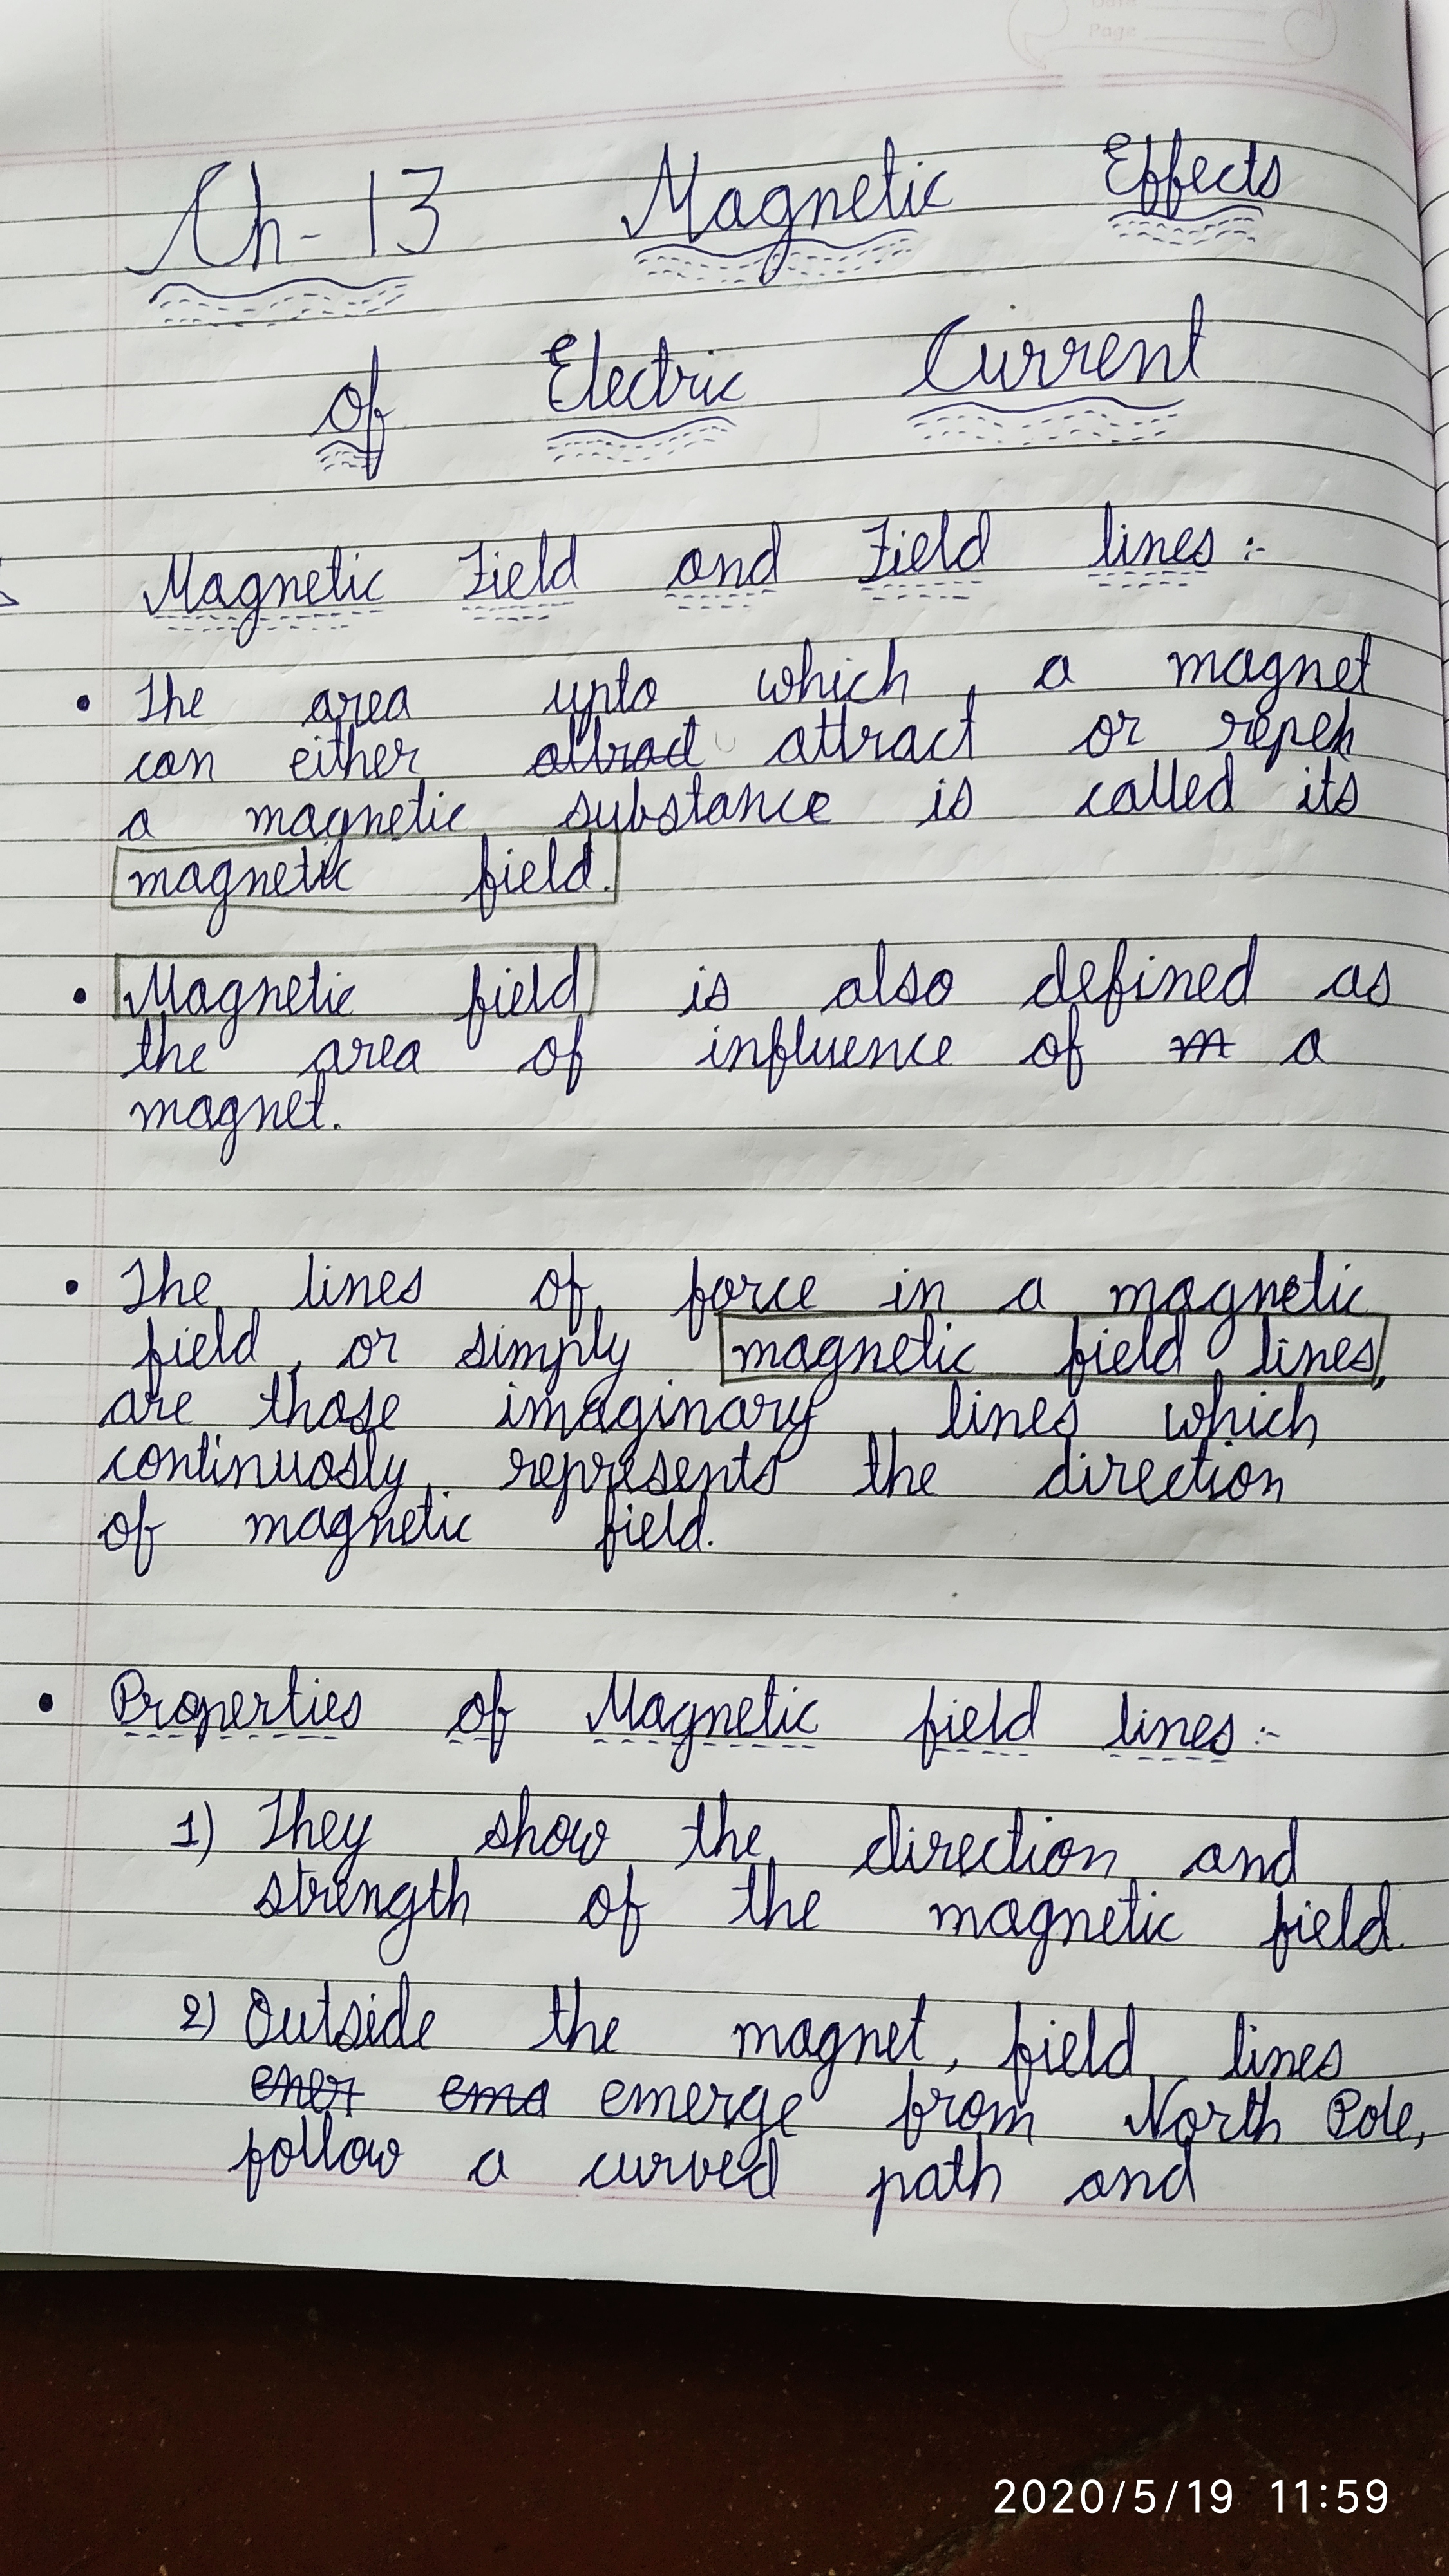C: (184, 159, 246, 267), (922, 313, 980, 393)
E: (543, 333, 584, 414), (1100, 131, 1136, 196)
F: (856, 517, 893, 586), (456, 540, 488, 598)
M: (639, 140, 702, 234), (596, 1672, 639, 1732), (159, 552, 196, 612), (138, 959, 179, 1014)
P: (110, 1668, 145, 1727)
T: (257, 1789, 287, 1851), (120, 1256, 149, 1315), (133, 672, 156, 724)
a: (708, 186, 745, 230), (1290, 1024, 1325, 1069), (773, 725, 810, 766), (984, 1897, 1021, 1937), (1219, 646, 1254, 686), (1039, 653, 1076, 690), (715, 1392, 750, 1431), (294, 1504, 329, 1543), (182, 1092, 216, 1132), (1162, 1276, 1196, 1316), (674, 547, 708, 586), (1329, 962, 1362, 1001), (310, 1037, 343, 1076), (1108, 777, 1141, 814), (1014, 1276, 1047, 1313), (886, 722, 918, 761), (287, 801, 318, 840), (780, 1332, 810, 1373), (110, 1387, 140, 1428), (639, 1690, 667, 1732), (180, 977, 211, 1016), (1192, 1842, 1226, 1875), (124, 807, 156, 842), (172, 860, 203, 895), (384, 685, 414, 722), (393, 1039, 423, 1076), (833, 977, 865, 1010), (704, 791, 732, 828), (198, 571, 226, 607), (310, 686, 336, 722), (154, 750, 180, 782)
b: (626, 775, 649, 833)
c: (625, 366, 655, 410), (924, 170, 954, 211), (978, 1835, 1008, 1875), (906, 1030, 936, 1069), (775, 786, 803, 826), (925, 727, 957, 763), (793, 1697, 821, 1736), (1081, 778, 1108, 819), (1162, 1463, 1191, 1500), (110, 1444, 134, 1484), (846, 669, 874, 704), (331, 856, 357, 893), (334, 982, 361, 1019), (720, 370, 748, 403), (1157, 1911, 1185, 1944), (770, 1276, 796, 1311), (952, 1341, 978, 1376), (446, 801, 474, 833), (1214, 161, 1240, 195), (1343, 1284, 1369, 1318), (363, 568, 387, 603), (1261, 1407, 1288, 1438), (453, 1513, 476, 1545), (134, 748, 156, 780)
d: (863, 1803, 904, 1875), (1221, 932, 1260, 1007), (1357, 1881, 1394, 1957), (954, 510, 994, 573), (1003, 1681, 1044, 1743), (1031, 941, 1069, 1008), (747, 522, 784, 587), (1152, 1311, 1189, 1376), (1267, 1817, 1300, 1888), (548, 945, 582, 1012), (1042, 1437, 1076, 1500), (1205, 752, 1238, 814), (548, 533, 582, 591), (563, 833, 596, 892), (678, 1491, 708, 1555), (232, 1307, 264, 1366)
e: (1093, 331, 1127, 380), (1070, 959, 1104, 1005), (849, 173, 879, 221), (1306, 709, 1336, 754), (1192, 961, 1223, 1005), (803, 786, 835, 826), (886, 1332, 918, 1373), (1132, 1456, 1159, 1504), (315, 1808, 343, 1852), (732, 1697, 763, 1737), (504, 561, 534, 600), (373, 1269, 403, 1307), (1108, 1338, 1138, 1376), (225, 1690, 253, 1730), (281, 973, 308, 1016), (954, 1833, 980, 1875), (269, 860, 299, 897), (170, 1389, 200, 1426), (669, 1454, 699, 1491), (957, 1706, 987, 1743), (1327, 655, 1355, 694), (281, 1090, 310, 1129), (189, 1269, 218, 1307), (395, 1507, 423, 1546), (1187, 154, 1214, 195), (1180, 771, 1207, 812), (1028, 1394, 1054, 1435), (1309, 1909, 1336, 1950), (603, 364, 628, 407), (909, 531, 934, 573), (504, 980, 533, 1017), (839, 1033, 867, 1070), (1095, 1904, 1120, 1946), (386, 801, 410, 842), (379, 1392, 403, 1433), (637, 1511, 662, 1552), (1169, 527, 1198, 563), (366, 743, 395, 778), (288, 745, 315, 782), (515, 858, 541, 895), (1189, 1713, 1215, 1750), (796, 1272, 821, 1311), (188, 1332, 212, 1371), (1329, 1338, 1355, 1373), (915, 1461, 941, 1497), (363, 688, 387, 725), (617, 1456, 642, 1493), (301, 568, 324, 607), (536, 1451, 559, 1490), (373, 1033, 398, 1069), (741, 1822, 764, 1859), (186, 1040, 212, 1072), (1253, 715, 1276, 750), (934, 1033, 957, 1069), (188, 686, 209, 720), (320, 1690, 341, 1723)
f: (364, 343, 387, 483), (1104, 938, 1132, 1028), (916, 1684, 943, 1771), (563, 1014, 589, 1099), (464, 961, 488, 1051), (488, 1668, 511, 1764), (476, 832, 499, 924), (1065, 1315, 1090, 1399), (564, 1249, 587, 1339), (133, 1488, 156, 1578), (686, 1254, 709, 1343), (1164, 126, 1185, 221), (764, 1014, 789, 1095), (1138, 133, 1161, 219), (1065, 1003, 1086, 1092), (602, 1486, 621, 1575), (1272, 1890, 1292, 1974), (145, 1315, 165, 1398)
g: (757, 182, 796, 285), (322, 1502, 357, 1583), (1205, 1277, 1238, 1362), (810, 1334, 846, 1408), (203, 856, 234, 939), (1024, 1897, 1054, 1976), (667, 1698, 699, 1773), (234, 571, 264, 649), (214, 977, 244, 1051), (324, 805, 350, 881), (1254, 649, 1284, 715), (216, 1095, 242, 1168), (617, 1394, 644, 1465)
h: (248, 161, 285, 267), (883, 1426, 916, 1497), (1207, 1368, 1238, 1437), (511, 1783, 538, 1856), (713, 1789, 740, 1861), (879, 639, 911, 699), (796, 635, 824, 701), (288, 1787, 317, 1851), (1286, 1384, 1318, 1438), (154, 1016, 184, 1072), (343, 724, 372, 778), (157, 1251, 186, 1306), (285, 1371, 311, 1430), (1334, 695, 1357, 755), (161, 671, 184, 722)
i: (648, 1376, 679, 1430), (1024, 1815, 1053, 1874), (1327, 1261, 1353, 1316), (1086, 1325, 1115, 1376), (1131, 954, 1161, 1001), (488, 966, 515, 1019), (901, 161, 925, 218), (901, 1826, 927, 1875), (1242, 1391, 1269, 1438), (313, 840, 336, 893), (888, 1267, 915, 1313), (433, 1490, 456, 1543), (777, 1686, 800, 1737), (826, 656, 853, 701), (925, 777, 950, 823), (964, 1389, 989, 1435), (701, 349, 720, 407), (497, 847, 520, 895), (702, 1024, 727, 1069), (315, 1263, 340, 1307), (209, 1433, 230, 1484), (304, 1675, 326, 1727), (1076, 1449, 1097, 1499), (936, 1322, 955, 1375), (939, 1698, 962, 1743), (890, 529, 911, 577), (1297, 764, 1318, 812), (686, 964, 708, 1012), (1270, 1336, 1295, 1376), (1293, 1898, 1315, 1944), (345, 552, 364, 602), (499, 1380, 518, 1430), (1115, 522, 1136, 566), (320, 971, 341, 1016), (1141, 1890, 1159, 1943), (168, 1327, 191, 1368), (426, 789, 448, 832), (310, 734, 329, 780), (488, 550, 506, 600), (488, 1323, 508, 1368), (619, 1502, 639, 1546), (1132, 1707, 1155, 1744)
l: (580, 327, 607, 410), (1332, 1884, 1359, 1951), (867, 936, 892, 1007), (529, 527, 552, 594), (1111, 1690, 1138, 1746), (945, 1380, 970, 1440), (540, 835, 564, 893), (1099, 499, 1120, 566), (932, 510, 955, 571), (1253, 1315, 1276, 1375), (207, 1306, 230, 1366), (299, 1251, 322, 1309), (984, 1686, 1007, 1744), (789, 1014, 814, 1065), (525, 961, 548, 1016), (1134, 1315, 1155, 1373), (1143, 757, 1164, 810), (363, 1428, 380, 1491), (1164, 755, 1184, 812), (587, 1306, 607, 1362), (660, 1497, 678, 1546)
m: (1108, 1276, 1157, 1313), (524, 1394, 568, 1433), (1173, 649, 1219, 686), (136, 1095, 180, 1131), (246, 1511, 288, 1546), (934, 1902, 978, 1936), (506, 1336, 547, 1371), (736, 1338, 778, 1371), (249, 803, 285, 839), (133, 865, 170, 897)
n: (1134, 338, 1173, 384), (1079, 1844, 1118, 1881), (736, 780, 766, 826), (987, 1401, 1021, 1442), (807, 186, 840, 225), (230, 1453, 264, 1491), (851, 1336, 883, 1376), (1154, 1714, 1189, 1750), (1159, 964, 1192, 1001), (727, 1033, 761, 1070), (678, 1394, 708, 1435), (255, 975, 283, 1017), (867, 1035, 901, 1070), (1058, 1907, 1092, 1943), (702, 1702, 734, 1739), (188, 743, 218, 782), (915, 1276, 947, 1311), (1139, 529, 1169, 566), (1293, 653, 1323, 690), (341, 1270, 372, 1307), (163, 1445, 193, 1483), (1237, 1845, 1267, 1882), (253, 1092, 280, 1132), (699, 1458, 731, 1491), (1251, 1276, 1279, 1313), (1300, 1339, 1329, 1376), (717, 552, 743, 589), (370, 1514, 396, 1550), (244, 865, 271, 899), (1260, 1467, 1284, 1502), (274, 573, 299, 607), (361, 803, 384, 837)
o: (327, 380, 363, 433), (455, 1690, 488, 1736), (1040, 1836, 1077, 1877), (533, 1267, 566, 1311), (1028, 1030, 1063, 1070), (924, 966, 957, 1008), (315, 1387, 349, 1430), (540, 1813, 571, 1858), (1085, 713, 1115, 759), (306, 1449, 338, 1491), (1224, 1460, 1254, 1504), (708, 1274, 740, 1315), (101, 1511, 133, 1552), (531, 1035, 561, 1077), (134, 1442, 165, 1481), (347, 1332, 375, 1371), (630, 676, 658, 713), (172, 1690, 200, 1727)
p: (552, 1451, 587, 1523), (575, 678, 610, 747), (547, 1336, 582, 1398), (1265, 717, 1300, 773), (198, 1697, 225, 1752)
qqbracket: (196, 1799, 218, 1867)
qqcome: (1371, 1375, 1387, 1392)
qqfstop: (706, 1537, 717, 1552), (602, 883, 612, 893), (331, 1122, 341, 1132)
qqhyphen: (297, 230, 324, 242)
qqone: (361, 168, 387, 258), (170, 1808, 200, 1849)
qqthree: (393, 163, 448, 257)
r: (1017, 338, 1049, 387), (1217, 709, 1254, 748), (1058, 334, 1092, 377), (508, 1445, 540, 1490), (1099, 1451, 1129, 1495), (389, 736, 421, 777), (587, 1449, 617, 1491), (924, 1829, 954, 1872), (750, 1392, 784, 1430), (853, 724, 885, 763), (1115, 708, 1145, 748), (671, 363, 701, 402), (345, 1035, 377, 1070), (373, 1325, 400, 1366), (736, 1272, 763, 1311), (334, 690, 363, 725), (140, 1691, 165, 1730), (249, 1691, 272, 1729), (142, 1391, 166, 1422)
s: (890, 959, 925, 1007), (460, 1322, 488, 1369), (644, 1449, 672, 1497), (655, 791, 685, 835), (336, 1440, 363, 1490), (1364, 961, 1392, 1007), (702, 971, 732, 1014), (563, 789, 593, 830), (483, 1808, 511, 1851), (1258, 154, 1283, 202), (1192, 525, 1217, 568), (1348, 1336, 1376, 1373), (1053, 1399, 1081, 1437)
t: (1180, 288, 1210, 380), (872, 133, 902, 219), (649, 334, 676, 410), (955, 683, 982, 759), (856, 1430, 885, 1495), (1306, 1251, 1332, 1313), (280, 1665, 306, 1727), (1118, 1877, 1143, 1943), (306, 1070, 333, 1131), (755, 1674, 780, 1737), (1005, 1806, 1028, 1874), (416, 1483, 441, 1545), (1353, 632, 1376, 695), (292, 844, 318, 897), (915, 1313, 938, 1373), (1185, 1438, 1212, 1490), (405, 778, 430, 833), (326, 545, 349, 603), (610, 656, 633, 715), (686, 1801, 709, 1859), (812, 706, 835, 763), (303, 959, 326, 1016), (833, 702, 855, 763), (731, 1440, 755, 1491), (683, 771, 706, 826), (131, 1017, 154, 1072), (264, 1369, 287, 1424), (1316, 755, 1338, 814), (1238, 140, 1260, 196), (327, 718, 347, 773), (193, 1430, 212, 1484)
u: (977, 343, 1012, 389), (271, 1447, 303, 1486), (550, 676, 580, 715), (593, 798, 623, 832), (809, 1035, 839, 1069)
w: (568, 1815, 609, 1867), (754, 663, 796, 706), (1162, 1399, 1207, 1440)
y: (331, 1812, 375, 1884), (777, 1394, 814, 1463), (372, 1454, 409, 1522)
